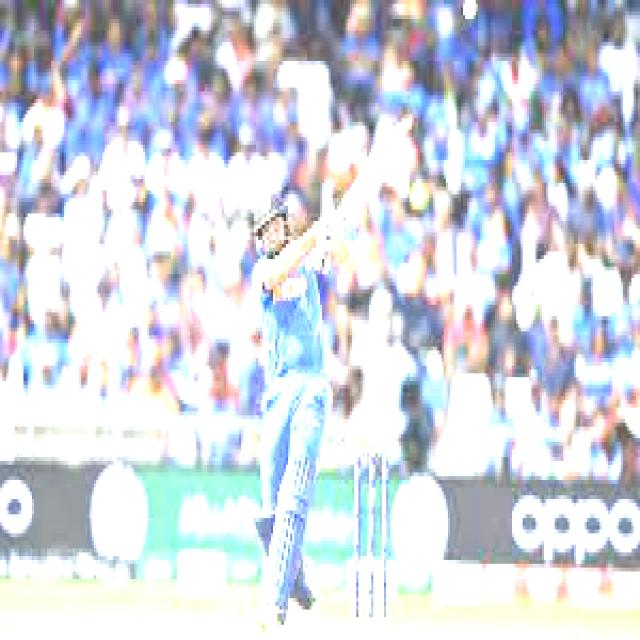toe: (394, 108, 416, 141)
